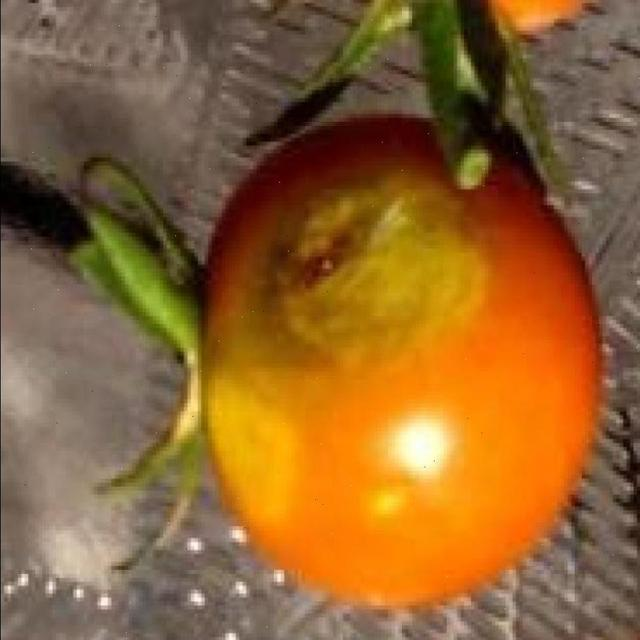Sunscald Fruit: (69, 106, 241, 294)
